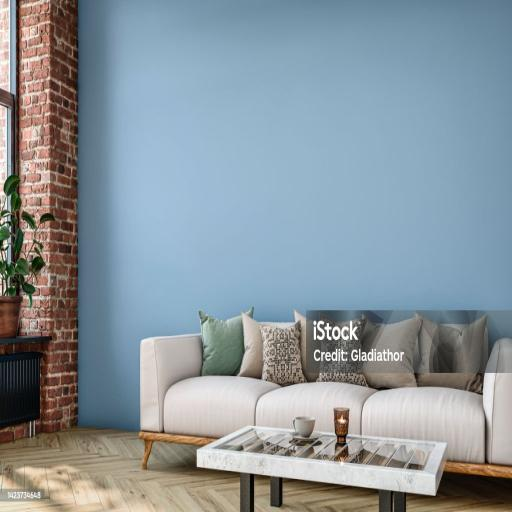back_cushion: (200, 308, 487, 392)
left_arm: (483, 338, 512, 465)
legs: (139, 432, 206, 469)
right_arm: (140, 334, 202, 432)
seat_cushion: (164, 376, 484, 462)
stallion-sofa: (140, 308, 512, 476)
